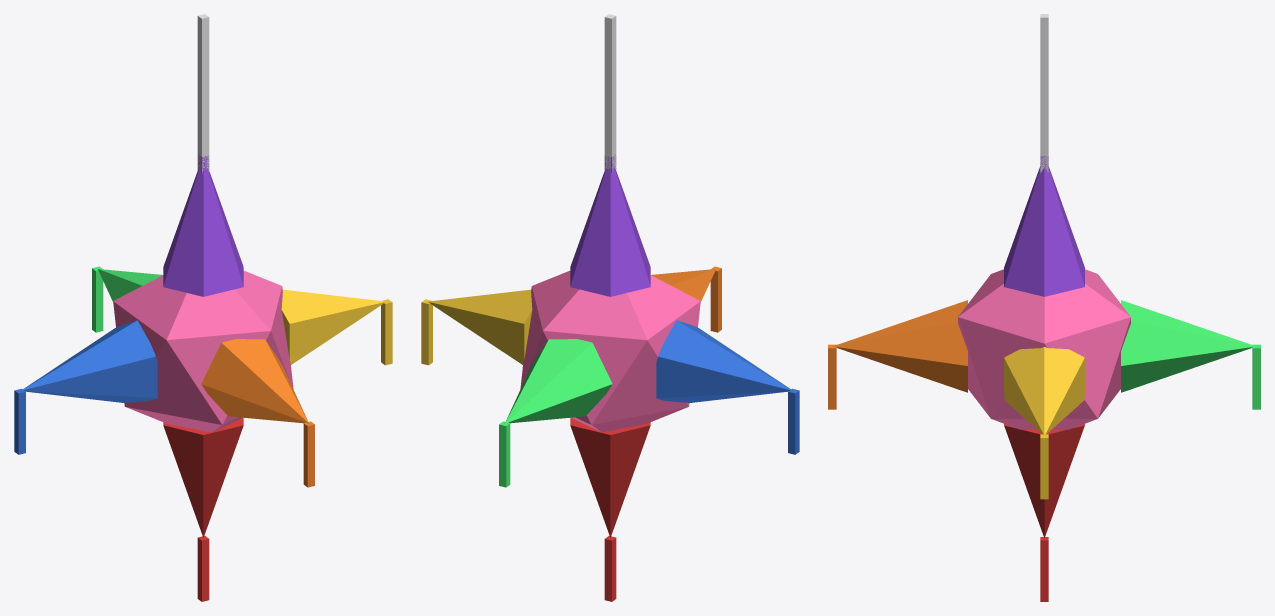
Rendered from StarPinata.fbx.
3 views of the same model, side by side, from view 1: azimuth 30°, elevation 25°; view 2: azimuth 150°, elevation 25°; view 3: azimuth 270°, elevation 25° (orthographic).
Visible parts, largest first — view 1: StarPinata; view 2: StarPinata; view 3: StarPinata.
Part boxes in pixels (x1=…): StarPinata: x1=14, y1=14, x2=392, y2=601; StarPinata: x1=421, y1=14, x2=799, y2=601; StarPinata: x1=828, y1=14, x2=1260, y2=601.
Bounding box in the file's own units: 5.1 × 7.6 × 5.1.
Materials: 1 (1 with a texture image).
